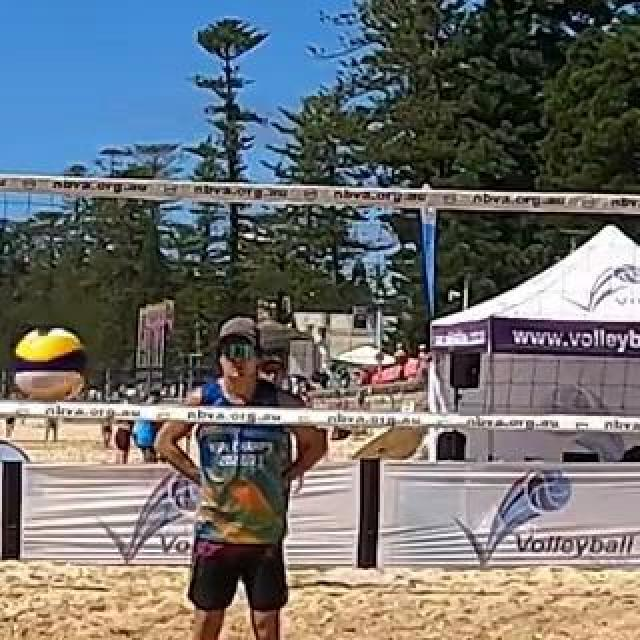volleyball: (12, 324, 84, 402)
